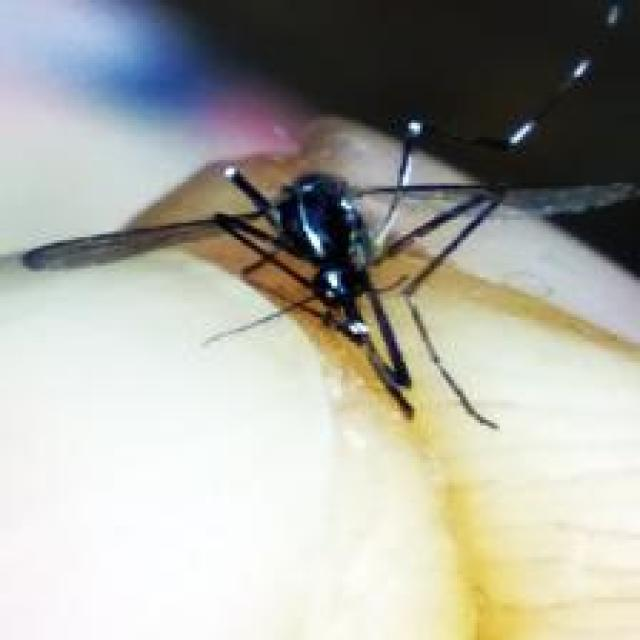Aedes albopictus: (8, 110, 640, 430)
